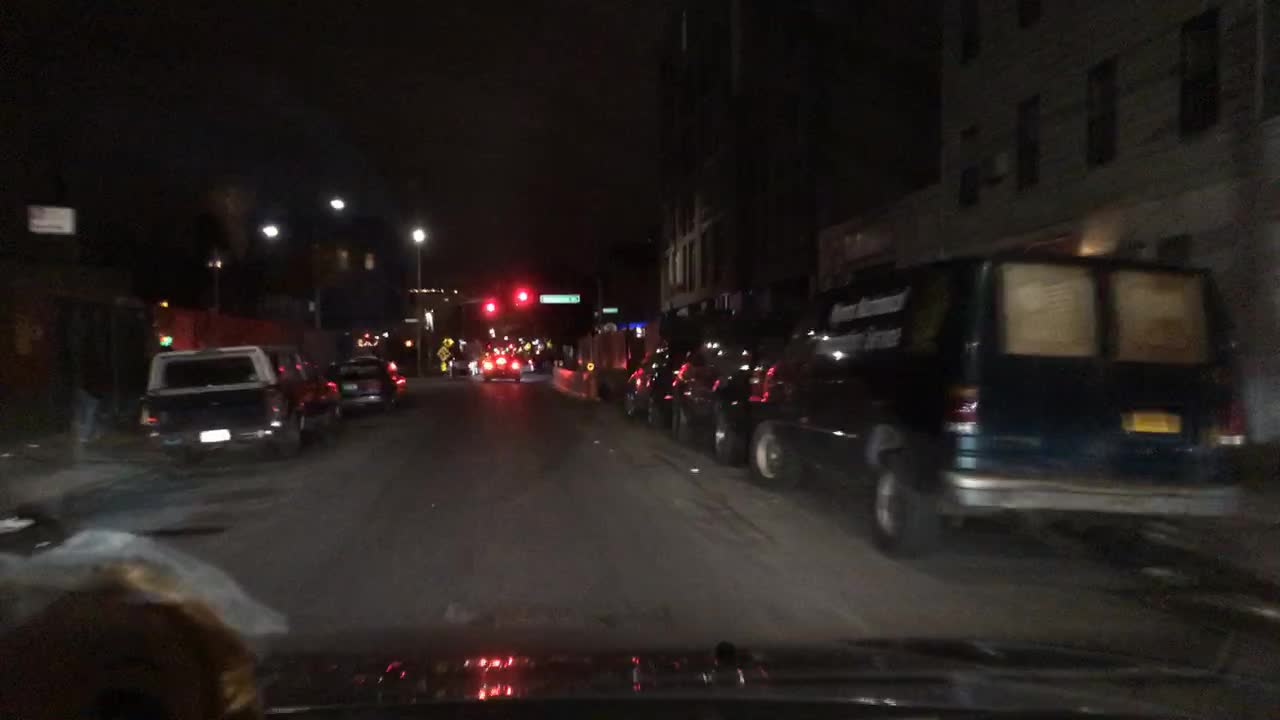car: (668, 324, 785, 466), (623, 338, 695, 425), (319, 351, 407, 412), (265, 349, 324, 415), (484, 352, 521, 383), (450, 353, 478, 375), (518, 354, 539, 373)
traffic light: (516, 289, 526, 309), (485, 301, 493, 319)
traffic sign: (28, 206, 74, 234), (538, 293, 581, 304), (435, 346, 449, 359), (443, 336, 454, 347), (402, 318, 421, 324), (601, 307, 620, 312)
truck: (746, 250, 1245, 555), (136, 343, 306, 464)
